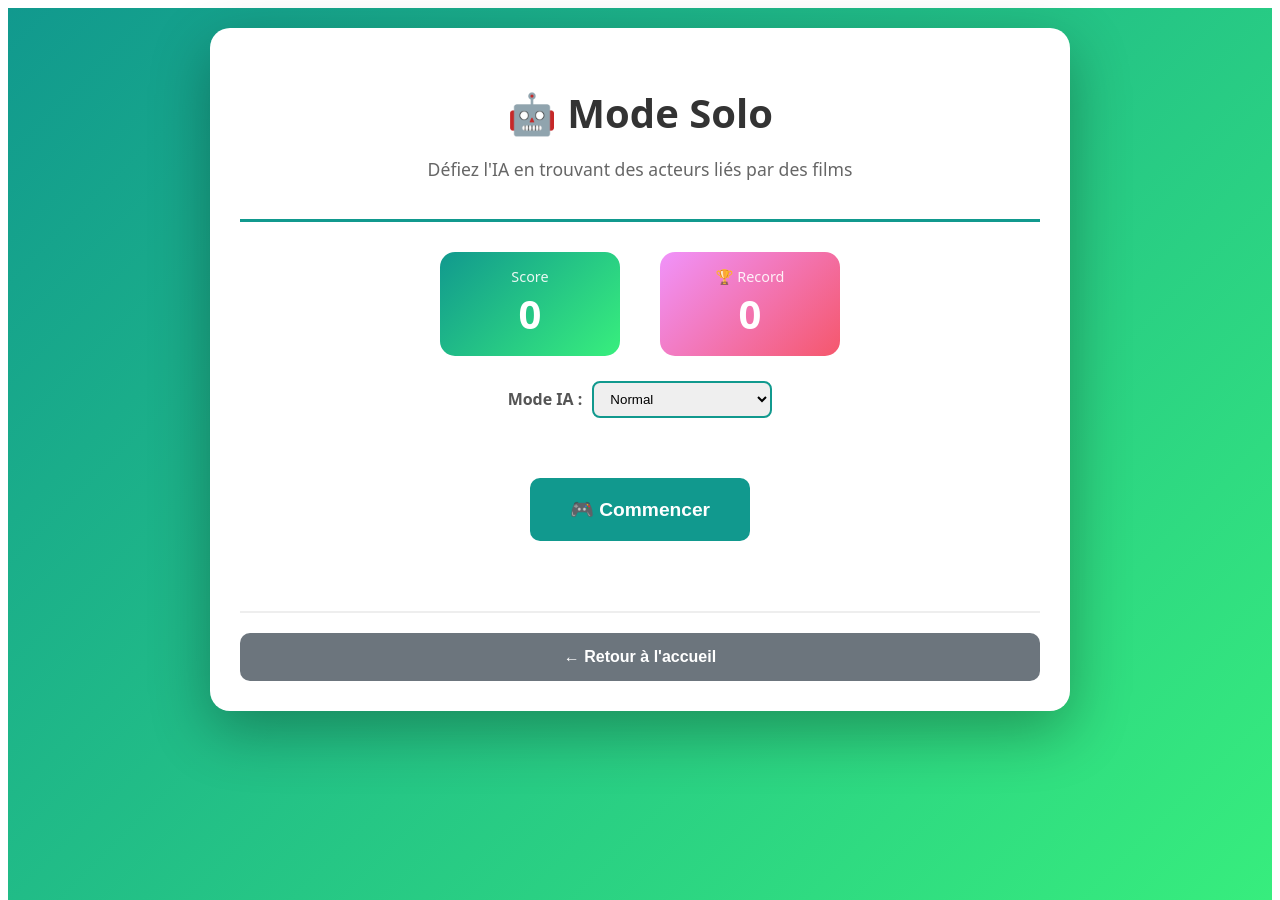
Test case: Tests d'intégration - Scénarios complets › Scénario 3 : Abandon d'une partie en cours
The width and height of the screenshot is (1280, 900).
Click the button "🎮 Commencer" at [640, 510], box [530,478,750,541]
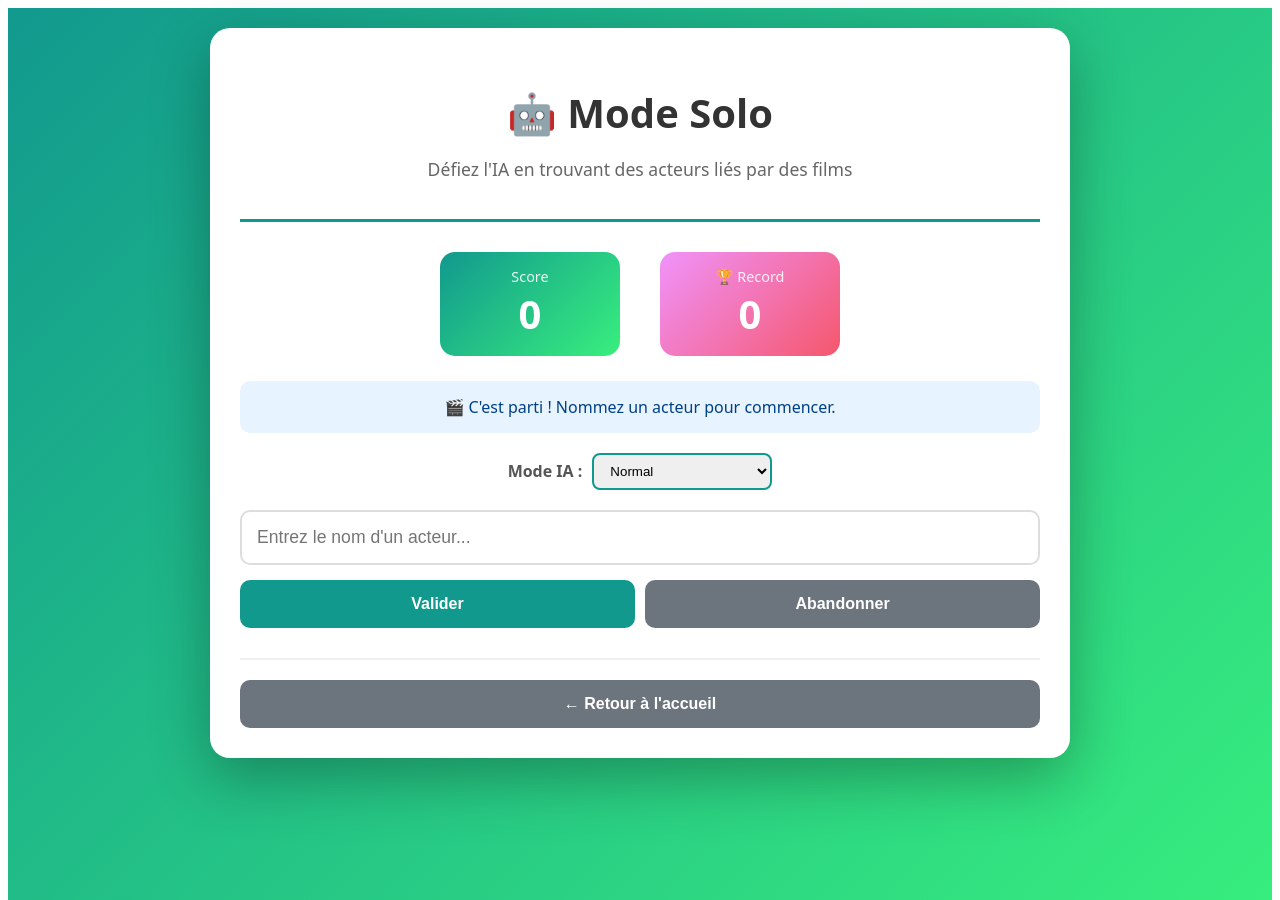
Result: the text "🎬 C'est parti ! Nommez un acteur pour commencer." is shown at [240,381,1040,433]
Click the button "Abandonner" at [842, 604], box [645,580,1040,628]
(page scrolled)
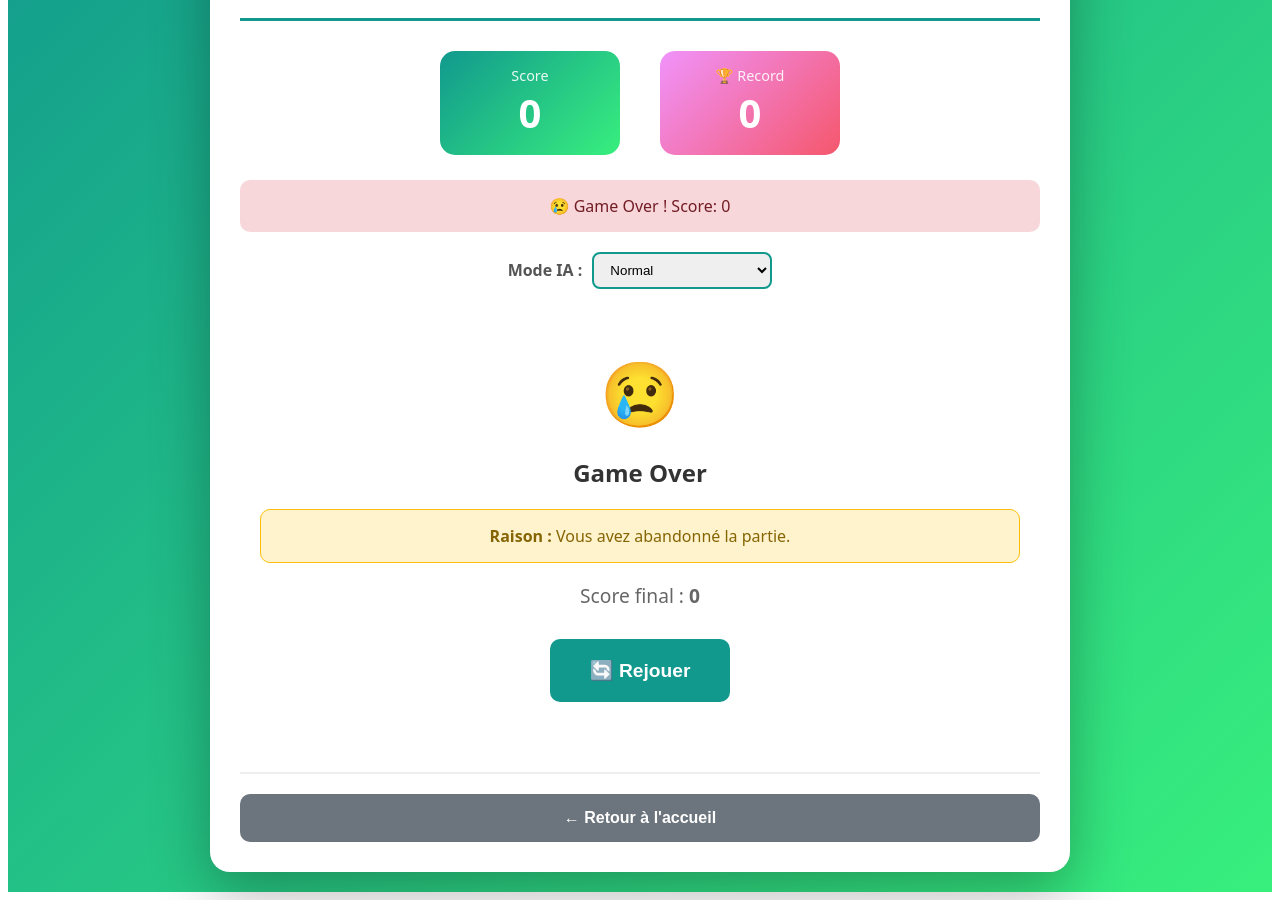
Result: the text "😢 Game Over ! Score: 0" is shown at [240,180,1040,232]
Result: the button "🔄 Rejouer" is shown at [550,639,730,702]
